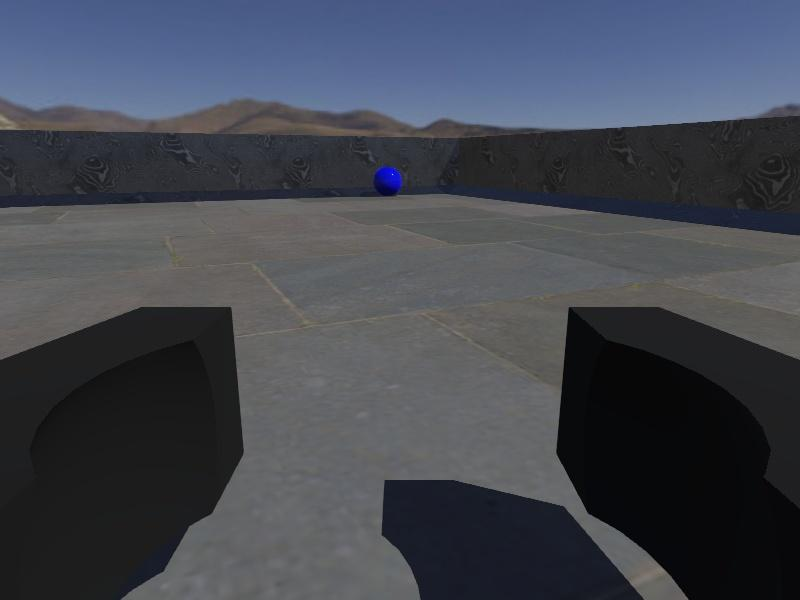blue ball: (373, 165, 403, 198)
